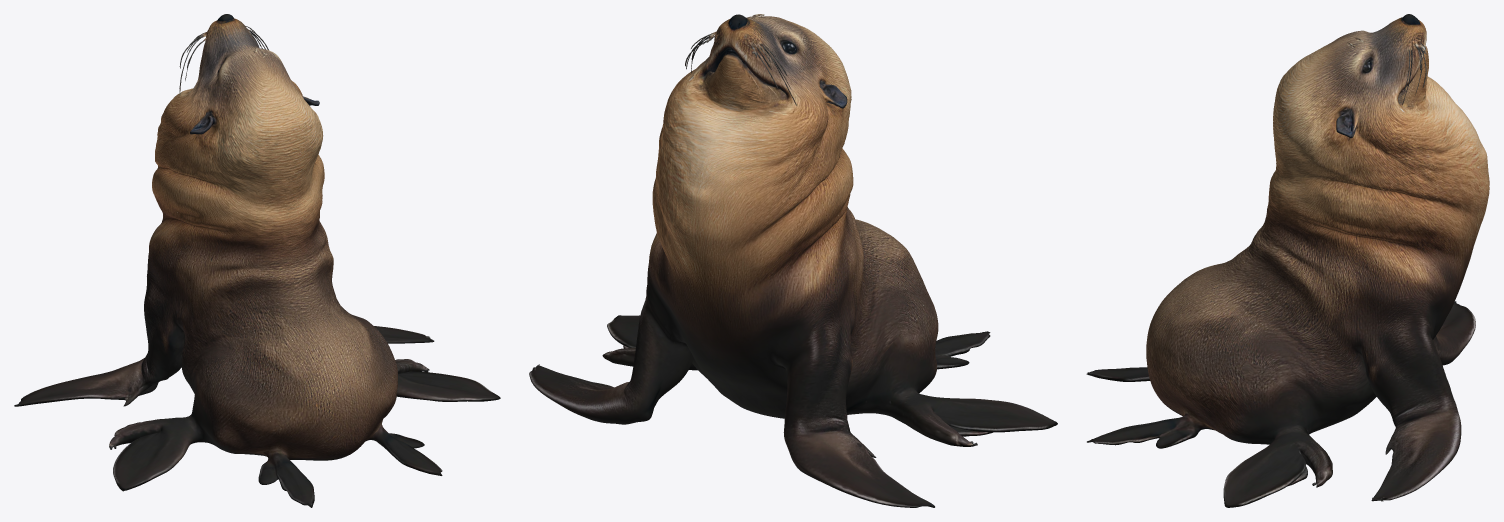
File: lobo.glb
3 views of the same model, side by side, from view 1: azimuth 30°, elevation 25°; view 2: azimuth 150°, elevation 25°; view 3: azimuth 270°, elevation 25° (orthographic). The views are drawn at different scales.
Parts seen in each view (by area): view 1: tripo_node_6d182ae5-6a6a-4967-a79c-e3ea315cf669; view 2: tripo_node_6d182ae5-6a6a-4967-a79c-e3ea315cf669; view 3: tripo_node_6d182ae5-6a6a-4967-a79c-e3ea315cf669.
Boxes of the visible parts, box(x1,y1,x2,y2) form: tripo_node_6d182ae5-6a6a-4967-a79c-e3ea315cf669: box(14, 14, 500, 507); tripo_node_6d182ae5-6a6a-4967-a79c-e3ea315cf669: box(529, 14, 1057, 507); tripo_node_6d182ae5-6a6a-4967-a79c-e3ea315cf669: box(1086, 14, 1489, 507).
Size of the model in its own units: 0.9784 by 0.9045 by 0.8366.
1 material, 1 textured.
